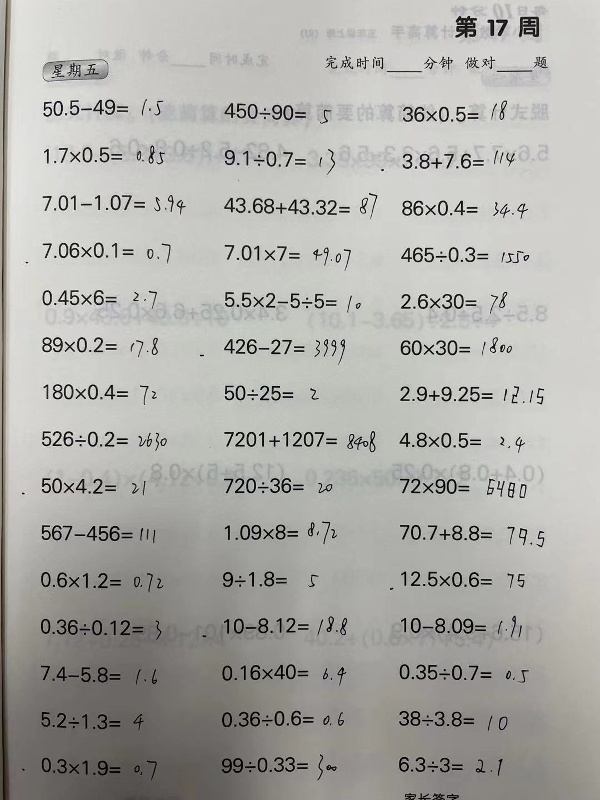equation: (396, 464, 530, 506), (220, 189, 381, 222), (396, 520, 549, 553), (39, 746, 159, 786), (218, 747, 338, 787), (220, 145, 339, 185), (221, 699, 348, 736), (220, 427, 379, 456), (217, 653, 350, 687), (220, 608, 353, 642), (395, 563, 532, 596), (395, 606, 532, 639), (395, 653, 532, 686), (394, 701, 516, 737), (38, 563, 164, 597), (39, 610, 165, 644), (36, 656, 162, 690), (219, 334, 348, 367), (34, 702, 150, 738), (389, 748, 506, 783), (39, 517, 159, 551), (220, 516, 339, 550), (221, 467, 340, 501), (220, 240, 353, 270), (41, 425, 168, 456), (395, 379, 546, 405), (38, 189, 188, 215), (215, 563, 327, 596), (38, 238, 173, 265), (219, 287, 363, 312), (395, 428, 525, 455), (38, 140, 167, 167), (36, 331, 160, 359), (220, 377, 327, 409), (396, 287, 510, 317), (396, 241, 532, 266), (38, 379, 159, 406), (38, 94, 165, 119), (397, 96, 510, 124), (38, 285, 158, 311), (397, 196, 527, 220), (36, 473, 149, 500), (395, 333, 515, 358), (397, 147, 517, 172), (216, 98, 334, 123)
